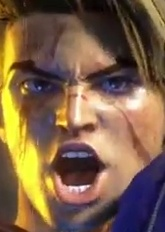kevin: (15, 17, 164, 230)
